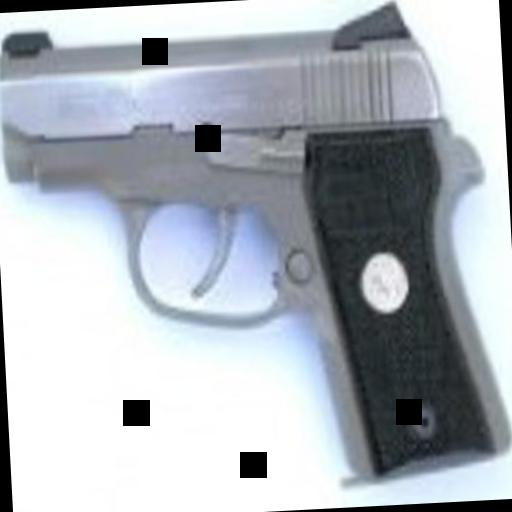Handgun: (5, 0, 510, 497)
